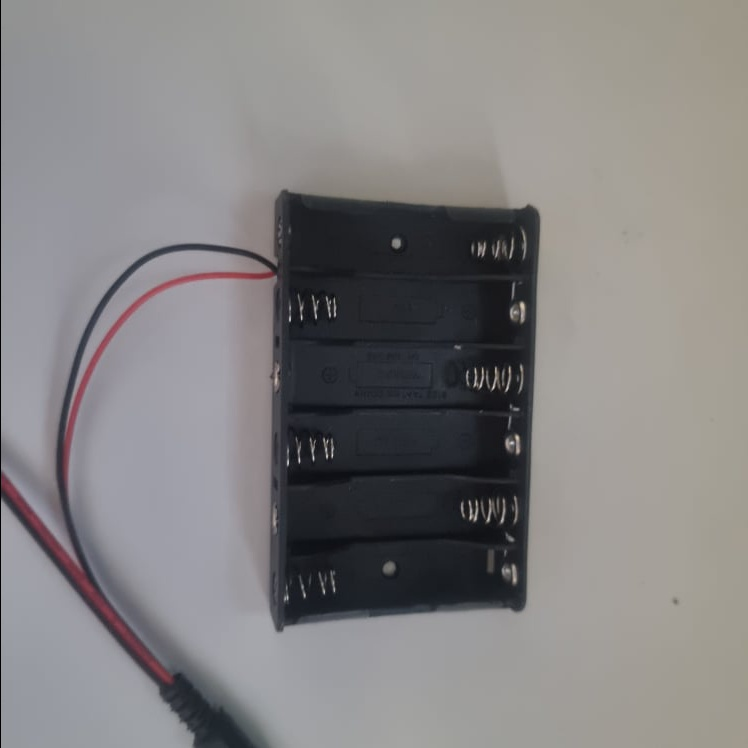BATTERY BOX: (264, 187, 541, 633)
